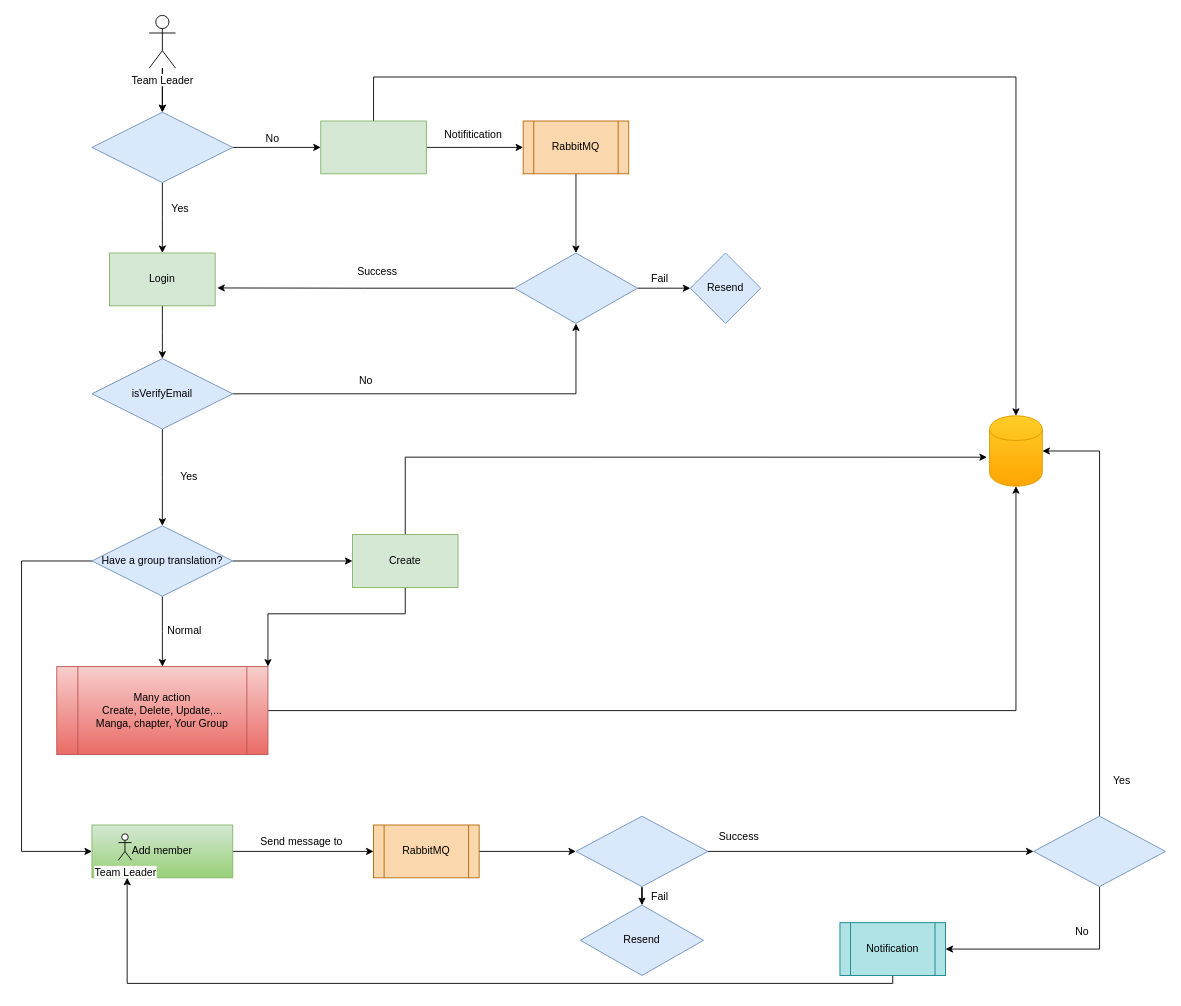
Image size: 1181x1006. Some labels were removed from this diagram. The centre of each missing label's shape, as x and y in pixels:
Have account?: (x=162, y=147)
isAccept: (x=1099, y=851)
Mongo: (x=1015, y=450)
Register: (x=373, y=147)
Send e-mail verify: (x=575, y=287)
Send email verify: (x=641, y=851)
